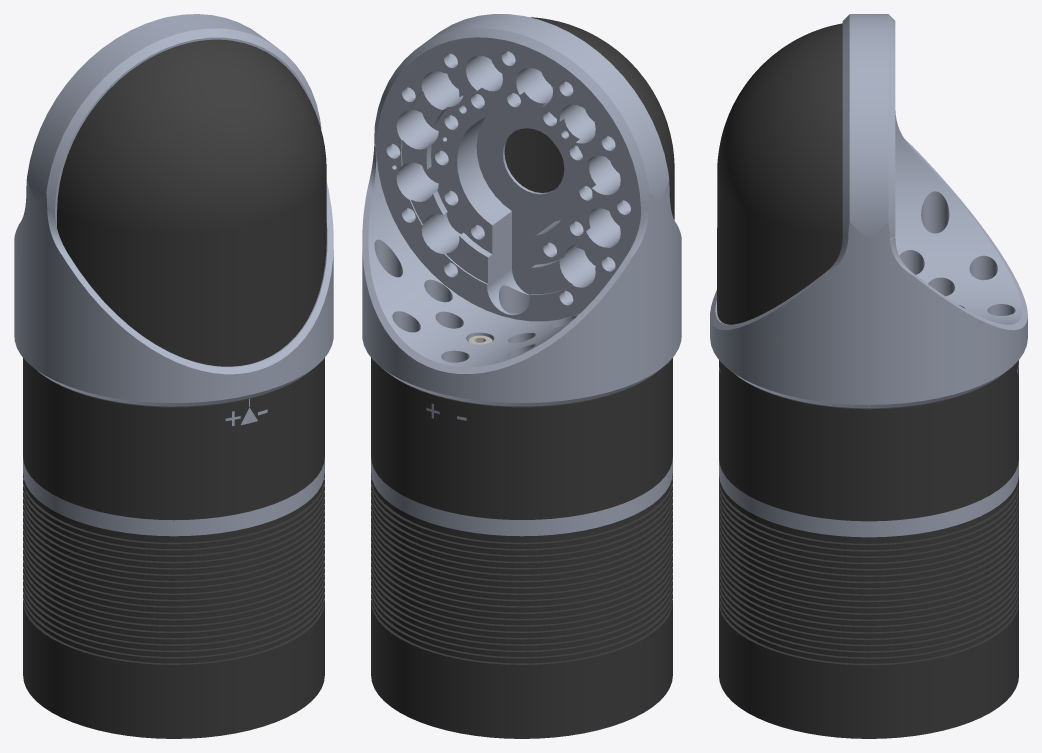
The model's file is First.fbx.
The picture shows the model from 3 angles, left to right: view 1: azimuth 30°, elevation 25°; view 2: azimuth 150°, elevation 25°; view 3: azimuth 270°, elevation 25°; orthographic projection.
Parts seen in each view (by area): view 1: color, color-2; view 2: color-2, color; view 3: color, color-2.
Boxes of the visible parts, x1,y1,x2,y2 form: color: (23,39,326,738); color-2: (14,14,333,536); color-2: (362,14,681,536); color: (371,17,674,738); color: (717,23,1018,738); color-2: (710,14,1027,537).
Bounding box in the file's own units: 9 × 20.25 × 9.
